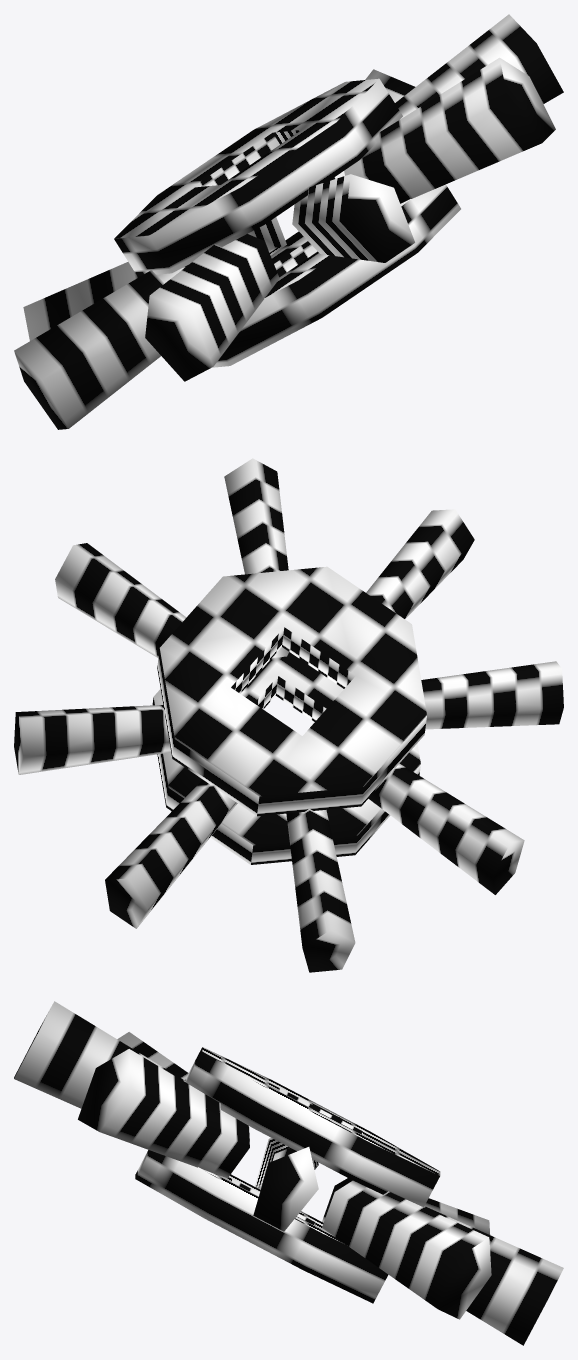
Rendered from initqu34.dae.
The picture shows the model from 3 angles, top to bottom: view 1: azimuth 30°, elevation 25°; view 2: azimuth 150°, elevation 25°; view 3: azimuth 270°, elevation 25°; orthographic projection. The views are drawn at different scales.
Parts seen in each view (by area): view 1: item; view 2: item; view 3: item.
Boxes of the visible parts, box(x1,y1,x2,y2) form: item: box(14, 14, 563, 429); item: box(14, 458, 563, 972); item: box(14, 1001, 563, 1345).
Bounding box in the file's own units: 1.65 × 1.61 × 1.18.
Materials: 1 (1 with a texture image).
